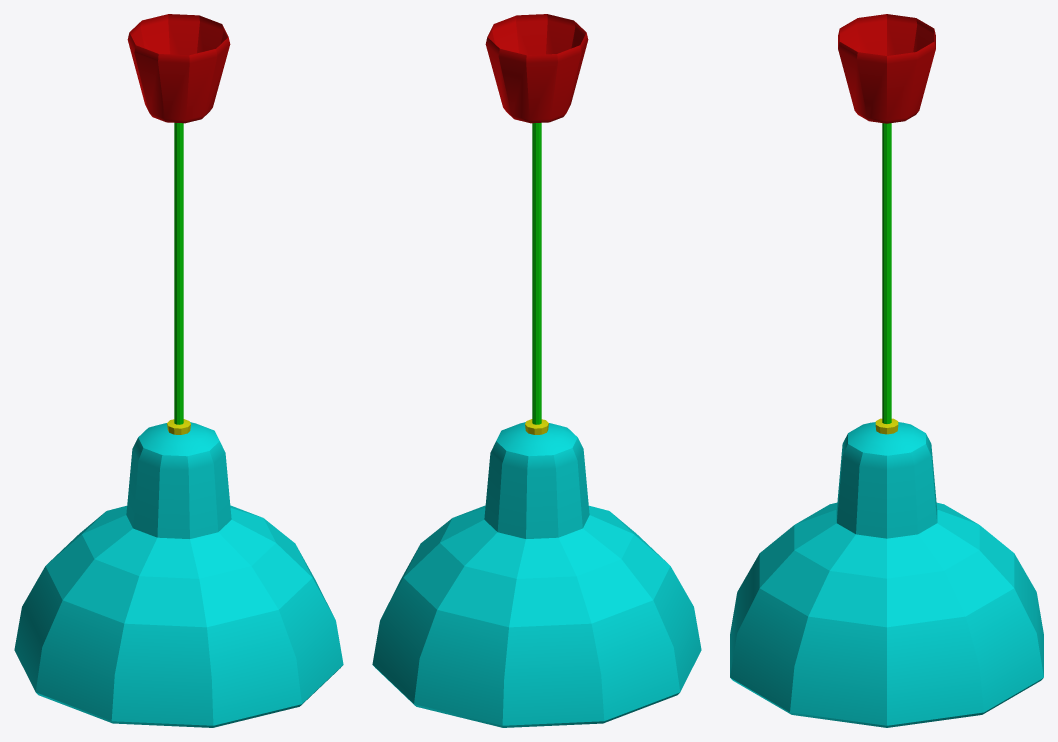
File: lamp.fbx
3 renders of one model, left to right at view 1: azimuth 30°, elevation 25°; view 2: azimuth 150°, elevation 25°; view 3: azimuth 270°, elevation 25°, orthographic.
Parts seen in each view (by area): view 1: Bulb; view 2: Bulb; view 3: Bulb.
Boxes of the visible parts, x1,y1,x2,y2 form: Bulb: (14, 14, 343, 727); Bulb: (372, 14, 701, 727); Bulb: (730, 14, 1043, 727).
Bounding box in the file's own units: 0.9472 × 1.98 × 0.9008.
